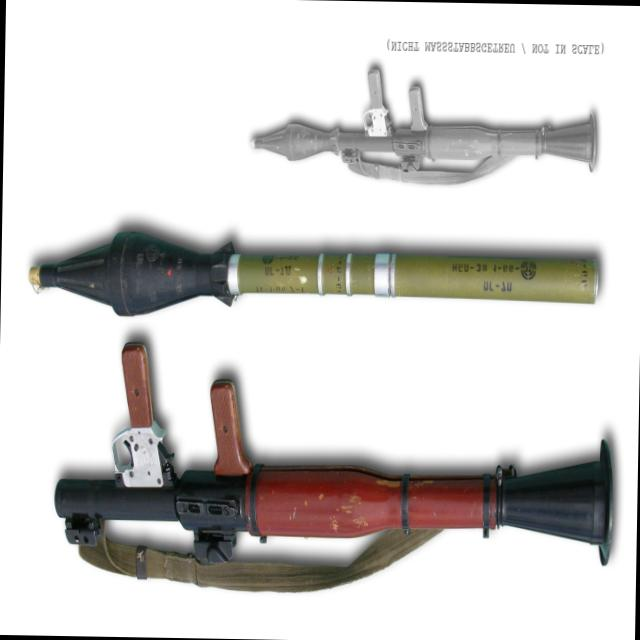Gun: (31, 302, 640, 632), (22, 94, 632, 373)
